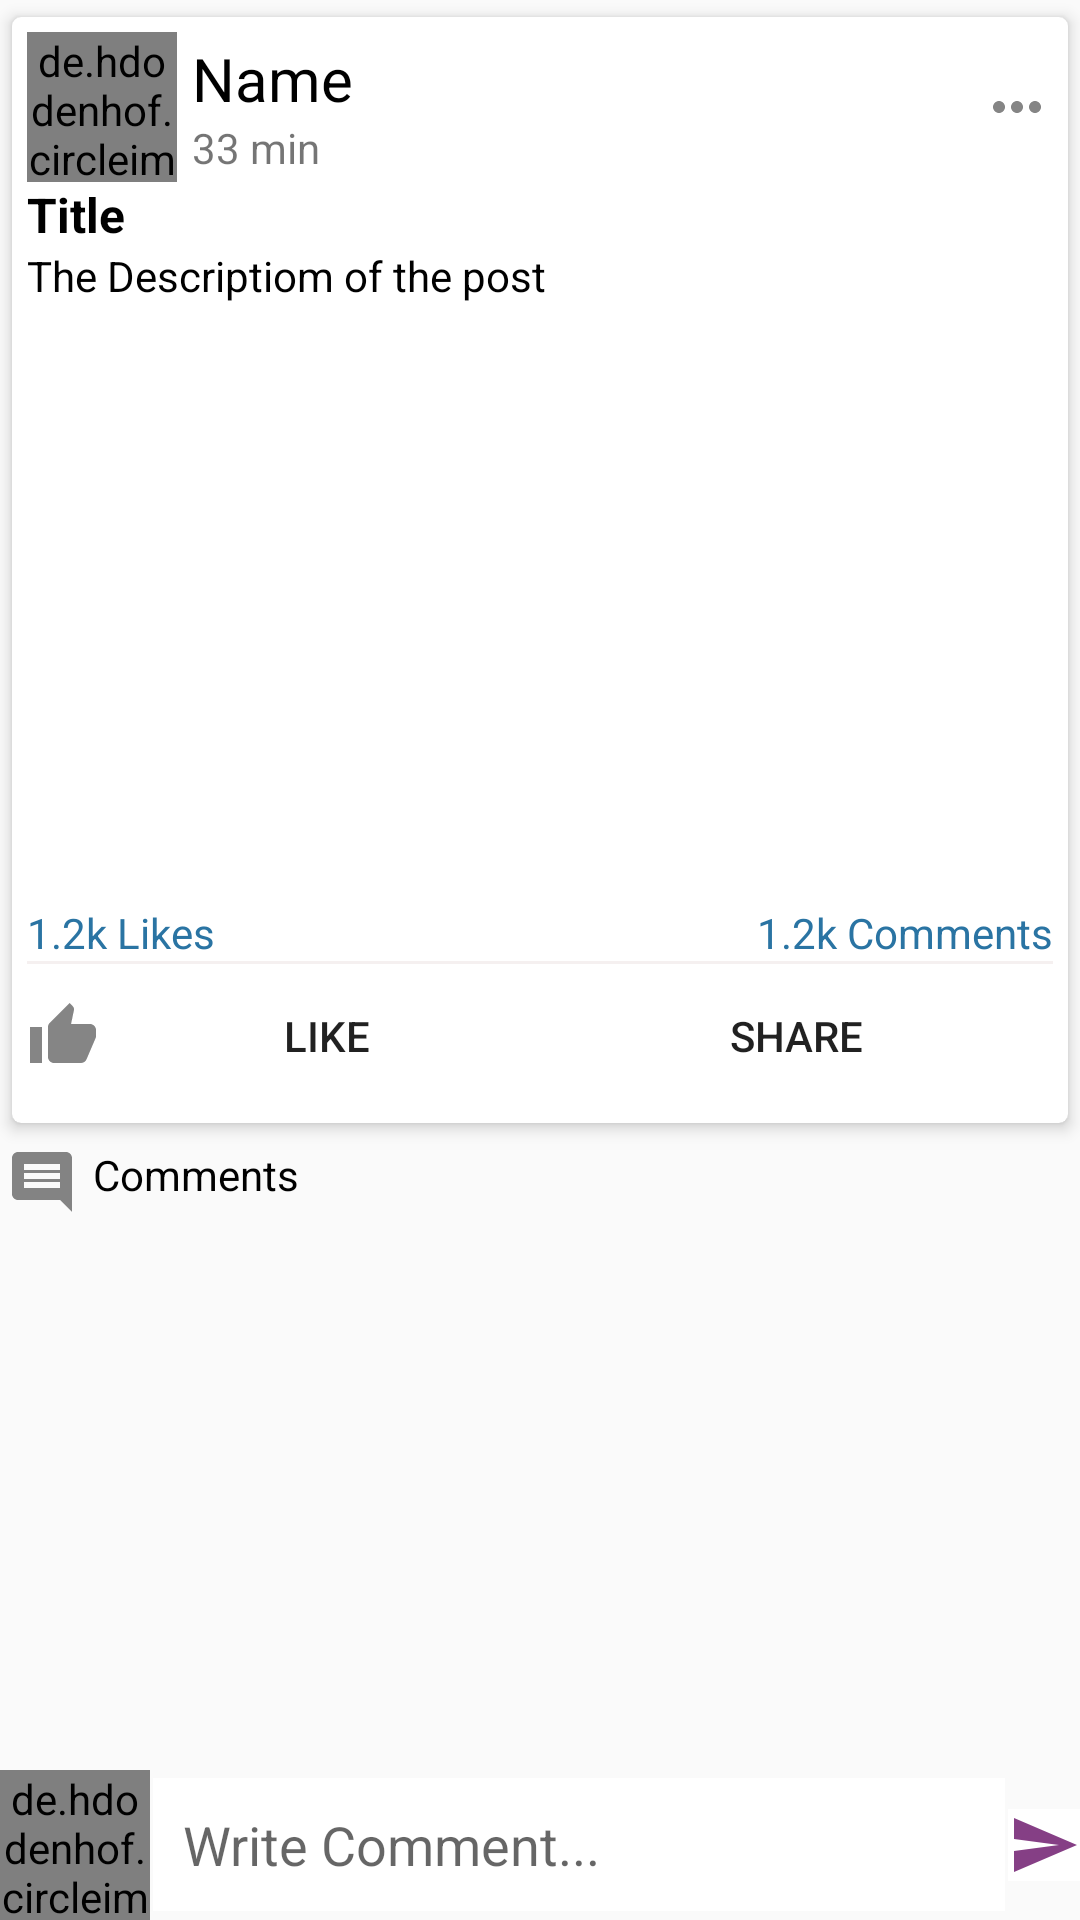

Screen size 1080*1920. Icon name, then its center in pixels as (x=x, y=y):
more: (x=1017, y=107)
send: (x=1045, y=1845)
